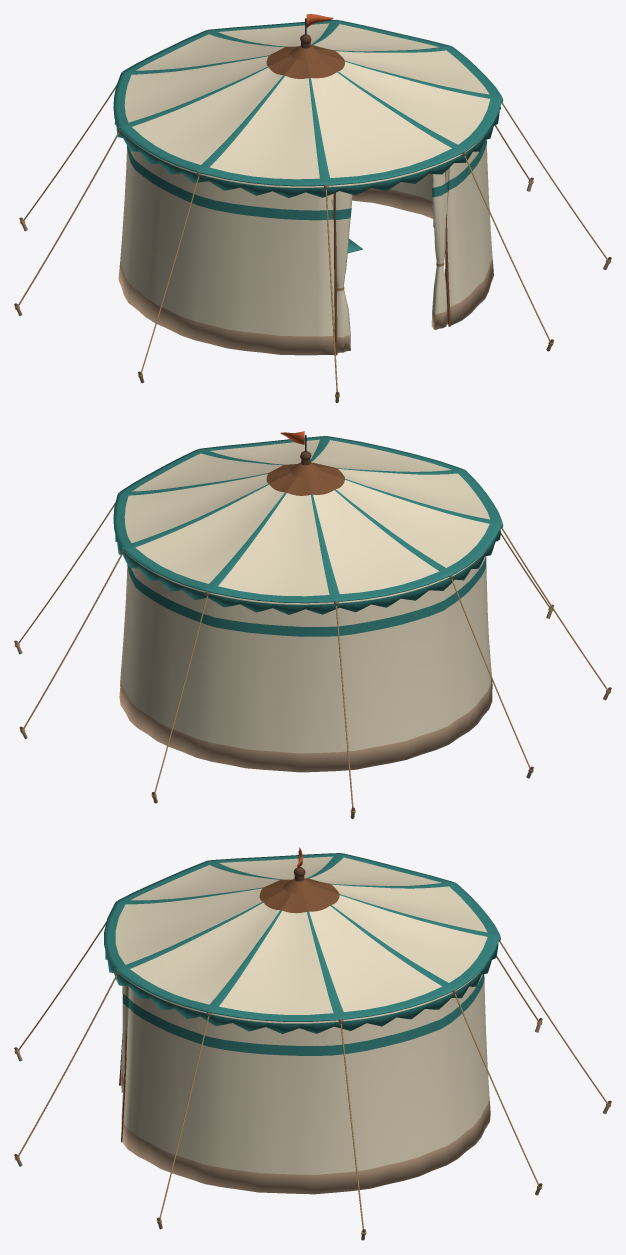
Rendered from deco_tent_pavilion.fbx.
The picture shows the model from 3 angles, top to bottom: view 1: azimuth 30°, elevation 25°; view 2: azimuth 150°, elevation 25°; view 3: azimuth 270°, elevation 25°; orthographic projection.
Visible parts, largest first — view 1: Tent_Pavilion_Roof, Tent_Pavilion_Wall, Tent_Pavilion_Valance, Tent_Pavilion_Guys, Tent_Pavilion_DoorFlapR, Tent_Pavilion_DoorFlapL, Tent_Pavilion_Trim, Tent_Pavilion_Poles; view 2: Tent_Pavilion_Wall, Tent_Pavilion_Roof, Tent_Pavilion_Valance, Tent_Pavilion_Guys, Tent_Pavilion_Poles; view 3: Tent_Pavilion_Wall, Tent_Pavilion_Roof, Tent_Pavilion_Valance, Tent_Pavilion_Guys, Tent_Pavilion_Poles, Tent_Pavilion_DoorFlapR.
Boxes of the visible parts, <box> form: Tent_Pavilion_Roof: <box>113,19,502,186</box>; Tent_Pavilion_Wall: <box>118,139,493,355</box>; Tent_Pavilion_Valance: <box>114,107,500,197</box>; Tent_Pavilion_Guys: <box>18,20,607,391</box>; Tent_Pavilion_DoorFlapR: <box>431,168,449,329</box>; Tent_Pavilion_DoorFlapL: <box>331,191,352,352</box>; Tent_Pavilion_Trim: <box>333,171,450,355</box>; Tent_Pavilion_Poles: <box>208,14,483,279</box>; Tent_Pavilion_Wall: <box>119,556,492,772</box>; Tent_Pavilion_Roof: <box>113,436,502,603</box>; Tent_Pavilion_Valance: <box>115,529,500,614</box>; Tent_Pavilion_Guys: <box>18,436,607,807</box>; Tent_Pavilion_Poles: <box>136,431,483,520</box>; Tent_Pavilion_Wall: <box>122,974,490,1194</box>; Tent_Pavilion_Roof: <box>104,853,500,1021</box>; Tent_Pavilion_Valance: <box>105,943,498,1033</box>; Tent_Pavilion_Guys: <box>17,853,607,1229</box>; Tent_Pavilion_Poles: <box>133,847,338,1008</box>; Tent_Pavilion_DoorFlapR: <box>121,986,130,1126</box>.
Size of the model in its own units: 1125 by 543 by 1102.
